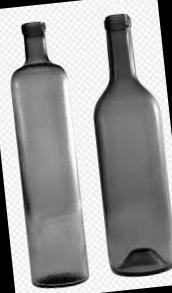glass: (0, 7, 104, 293)
